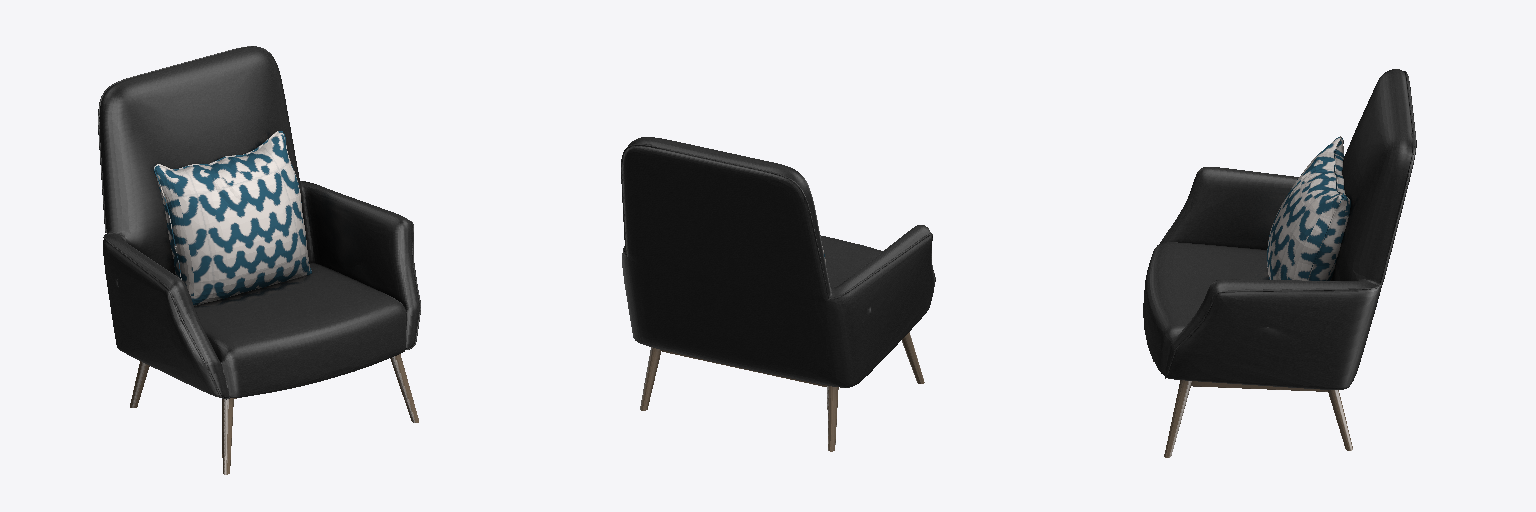
3 renders of one model, left to right at view 1: azimuth 30°, elevation 25°; view 2: azimuth 150°, elevation 25°; view 3: azimuth 270°, elevation 25°, orthographic.
Visible parts, largest first — view 1: solid_003, solid_001, solid_002; view 2: solid_003, solid_002; view 3: solid_003, solid_001, solid_002.
Boxes of the visible parts, x1,y1,x2,y2 form: solid_003: [98, 46, 420, 399]; solid_001: [154, 131, 311, 305]; solid_002: [130, 354, 418, 474]; solid_003: [621, 137, 935, 387]; solid_002: [640, 332, 924, 451]; solid_003: [1143, 69, 1416, 389]; solid_001: [1267, 136, 1350, 280]; solid_002: [1153, 361, 1352, 457].
Bounding box in the file's own units: 1.23 × 1.39 × 1.15.
1 materials, 1 textured.